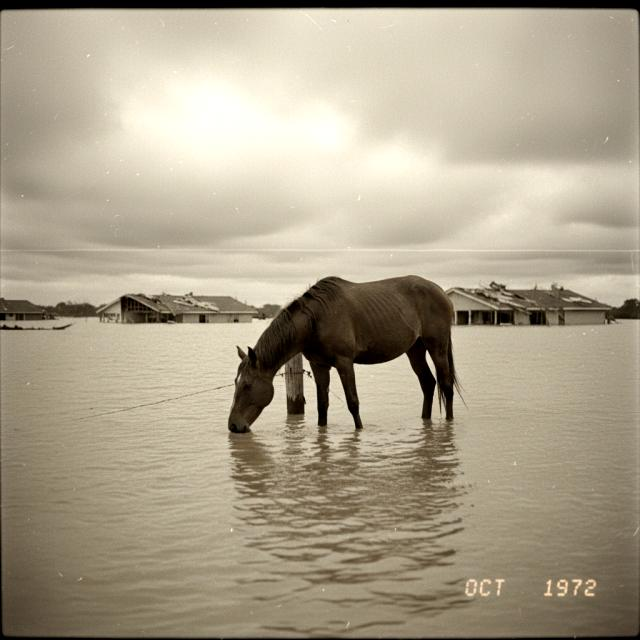horse: (219, 258, 476, 463)
